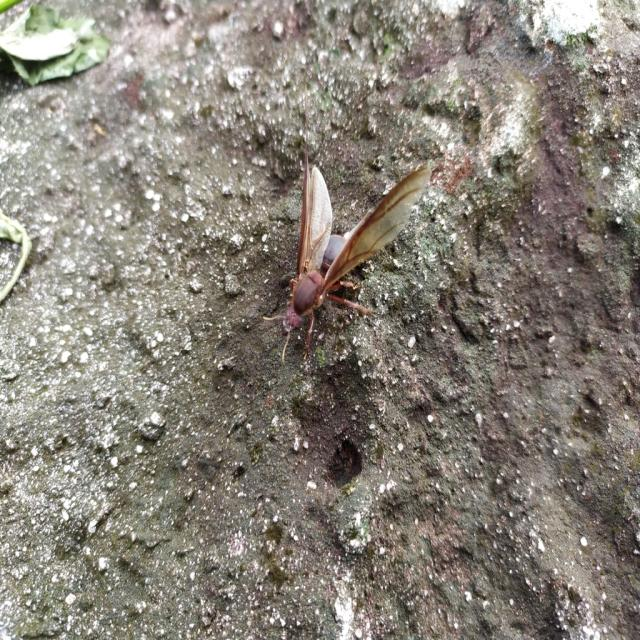Alive-Female-Alate: (262, 83, 432, 366)
